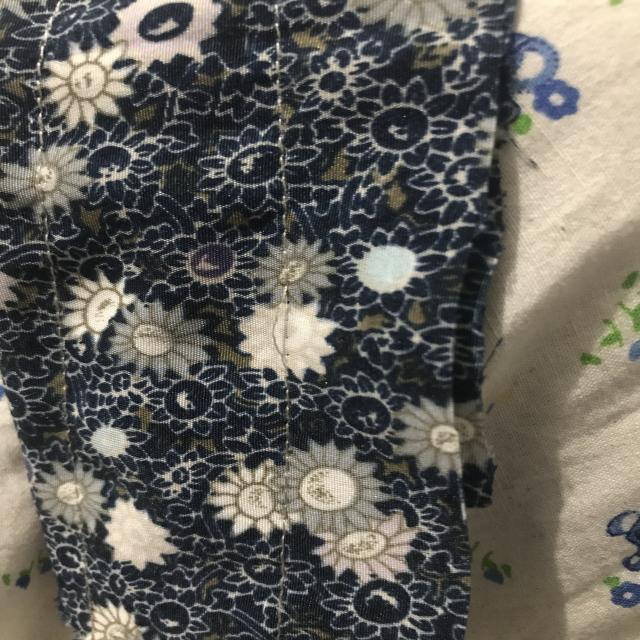skip: (266, 268, 310, 376)
